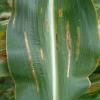Corn leaf blight: (8, 0, 99, 99)
